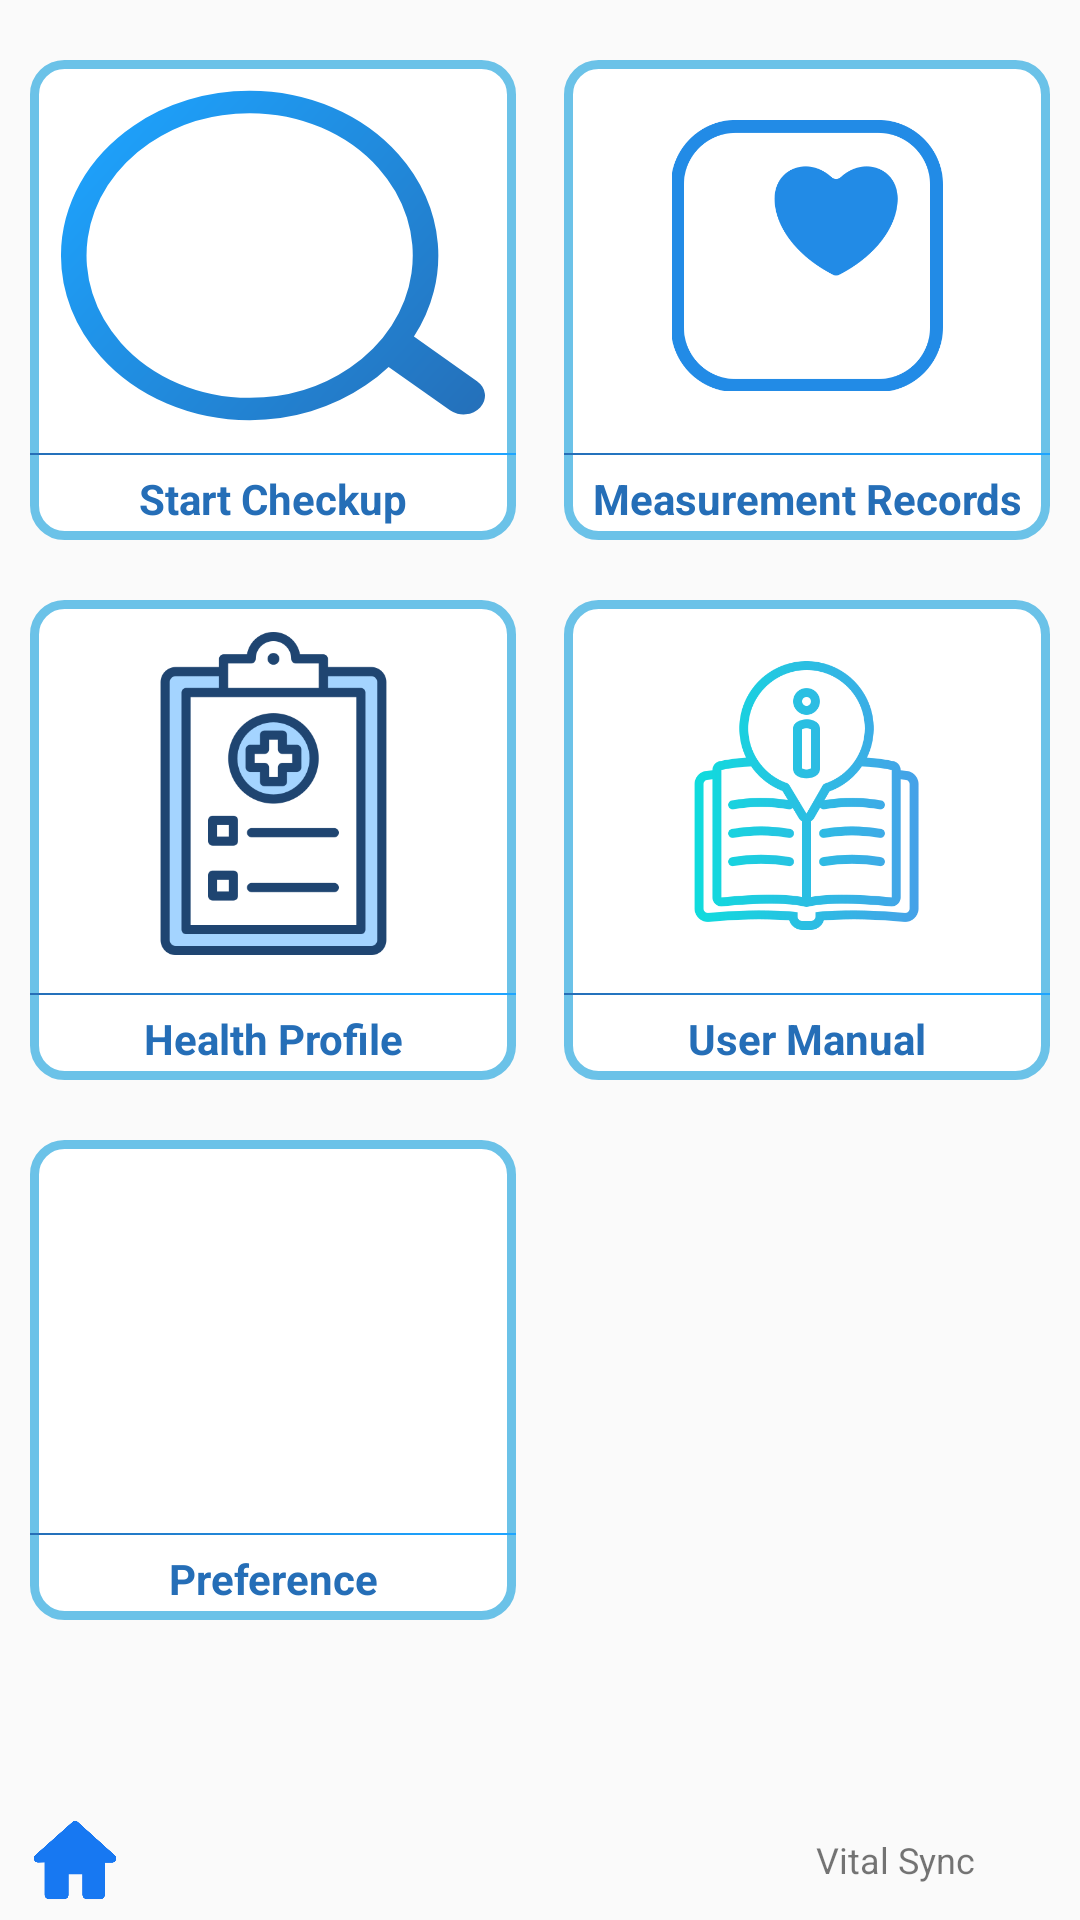

Point at icon controls on the screen. Image size 1080px x 1920px, points as point (x, y).
home: point (75, 1860)
medichart: point (273, 793)
